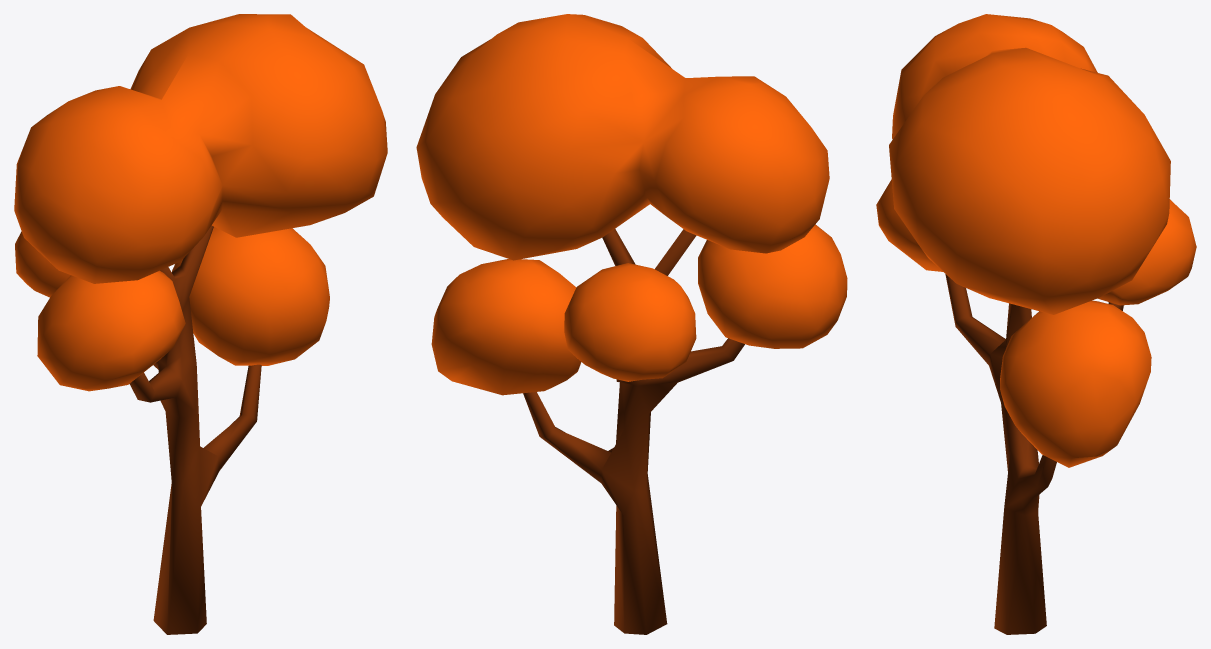
The model's file is Tree004.fbx.
3 views of the same model, side by side, from view 1: azimuth 30°, elevation 25°; view 2: azimuth 150°, elevation 25°; view 3: azimuth 270°, elevation 25° (orthographic). The views are drawn at different scales.
Visible parts, largest first — view 1: tree.004; view 2: tree.004; view 3: tree.004.
Boxes of the visible parts, x1,y1,x2,y2 form: tree.004: (14, 14, 387, 634); tree.004: (416, 14, 847, 634); tree.004: (876, 14, 1196, 634).
Size of the model in its own units: 336 by 509 by 246.
Materials: 1 (1 with a texture image).
